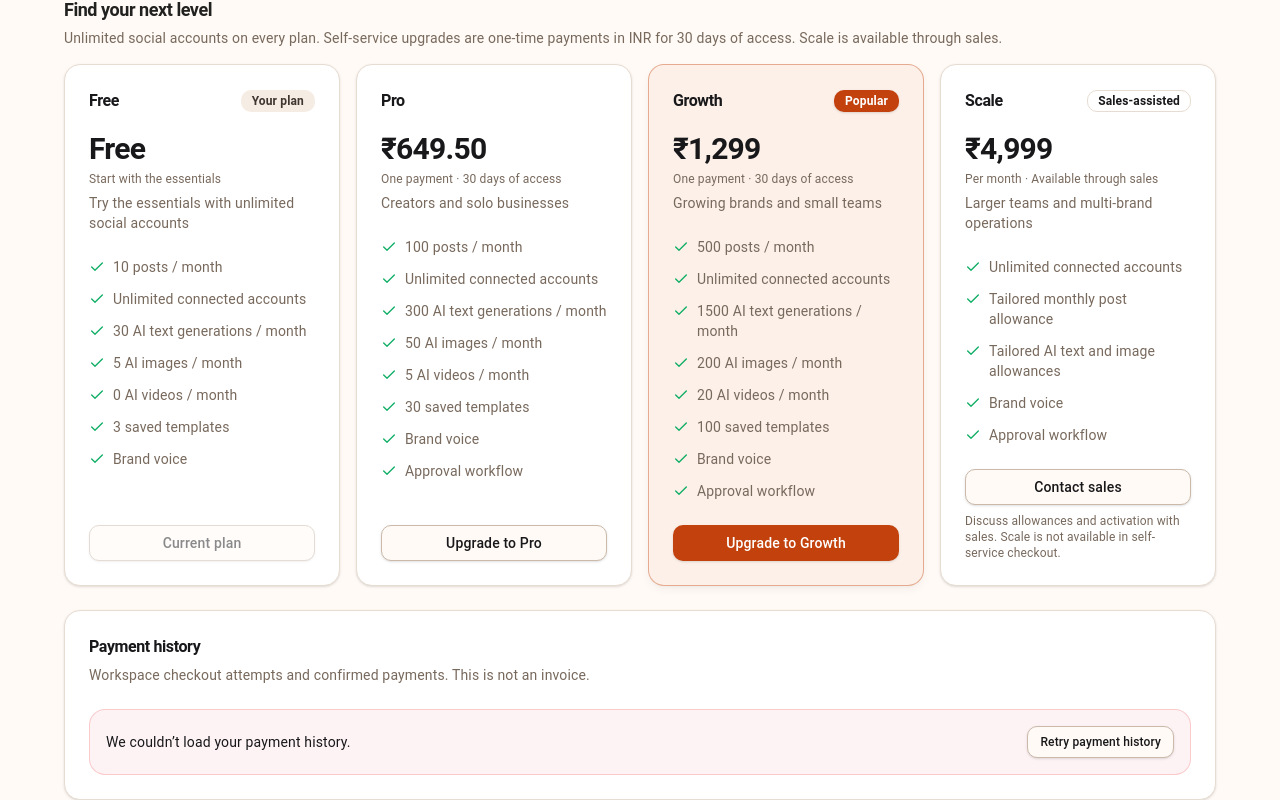
Test: BillingOverview › isolates a history failure and retries only that resource
(page scrolled)
Expected: the message "We couldn’t load your payment history. Retry payment history" is shown, left=89, top=709, right=1191, bottom=775
Expected: the text "₹649.50" is shown, left=381, top=131, right=486, bottom=166
What coordinates should you click on to do the following:
click the button "Retry payment history"
I would click on:
 (1101, 742)
Its box is left=1028, top=726, right=1174, bottom=758.
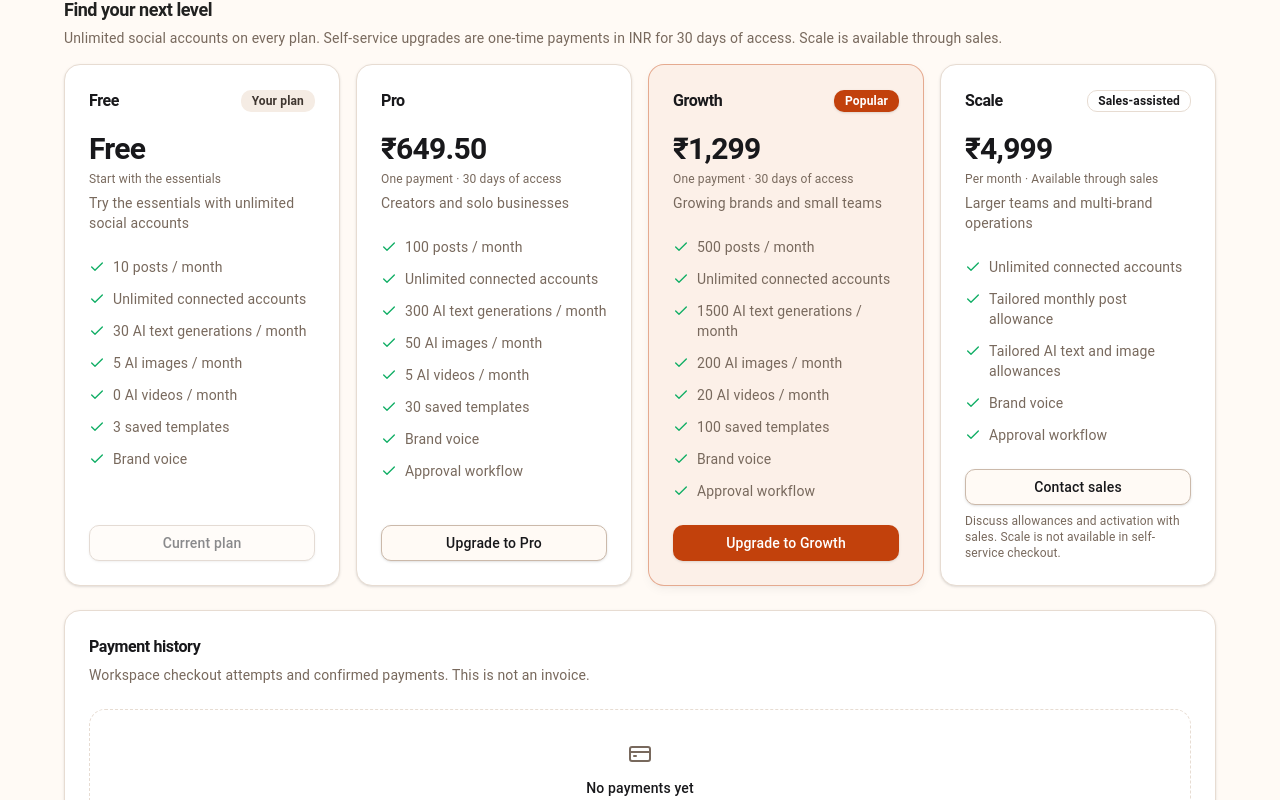
Now the message "We couldn’t load your payment history. Retry payment history" is gone
